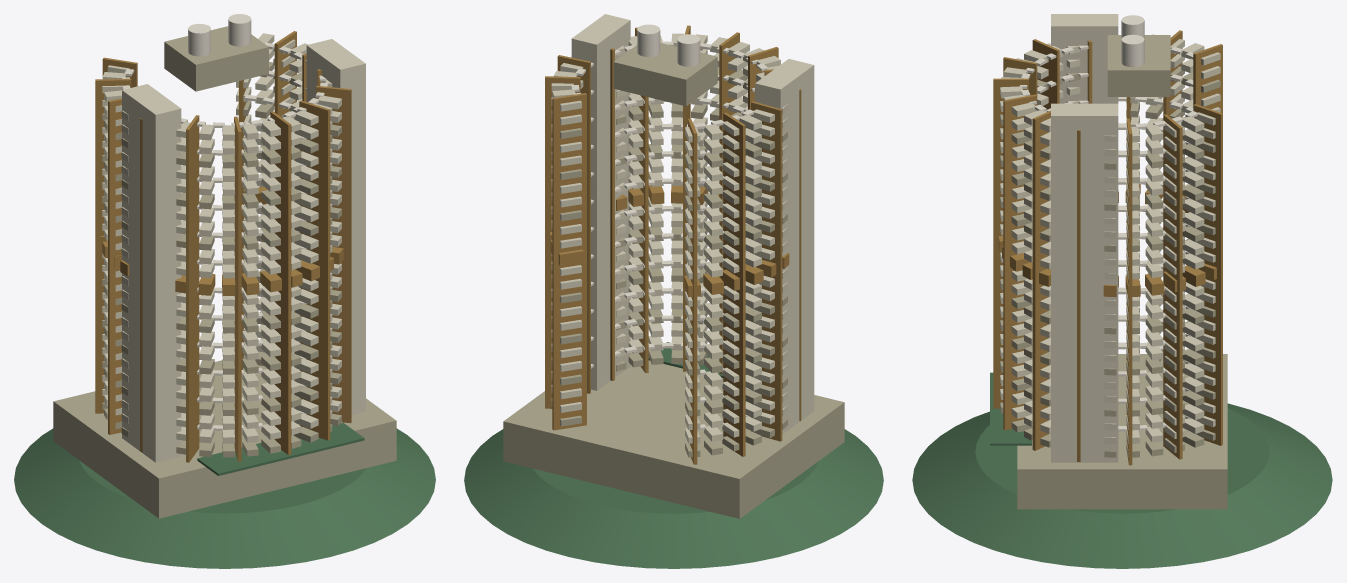
File: pearl-bank-apartments.glb
The picture shows the model from 3 angles, left to right: view 1: azimuth 30°, elevation 25°; view 2: azimuth 150°, elevation 25°; view 3: azimuth 270°, elevation 25°; orthographic projection.
Parts seen in each view (by area): view 1: hill-base/tapered, service-spine/form (×2), podium-carpark/form, radial-party-fins/fin-7, radial-party-fins/fin-4, radial-party-fins/fin-8, radial-party-fins/fin-6, roof-plant/form, radial-party-fins/fin-2, radial-party-fins/fin-1, radial-party-fins/fin-5, open-cylinder-gap/court-axis (+4 smaller); view 2: hill-base/tapered, podium-carpark/form, service-spine/form (×2), radial-party-fins/fin-12, roof-plant/form, radial-party-fins/fin-2, radial-party-fins/fin-1, radial-party-fins/fin-11, radial-party-fins/fin-0, radial-party-fins/fin-8, radial-party-fins/fin-10, radial-party-fins/fin-9 (+5 smaller); view 3: hill-base/tapered, service-spine/form (×2), podium-carpark/form, radial-party-fins/fin-11, radial-party-fins/fin-12, radial-party-fins/fin-7, radial-party-fins/fin-8, roof-plant/form, radial-party-fins/fin-6, radial-party-fins/fin-10, radial-party-fins/fin-9, radial-party-fins/fin-0 (+4 smaller).
Boxes of the visible parts, <box> form: hill-base/tapered: <box>14,428,435,568</box>; service-spine/form (×2): <box>122,39,365,462</box>; podium-carpark/form: <box>53,351,396,518</box>; radial-party-fins/fin-7: <box>299,100,330,440</box>; radial-party-fins/fin-4: <box>186,115,199,462</box>; radial-party-fins/fin-8: <box>316,85,351,423</box>; radial-party-fins/fin-6: <box>270,111,291,454</box>; roof-plant/form: <box>164,26,268,91</box>; radial-party-fins/fin-2: <box>108,98,121,434</box>; radial-party-fins/fin-1: <box>95,78,131,413</box>; radial-party-fins/fin-5: <box>234,116,241,461</box>; open-cylinder-gap/court-axis: <box>197,422,364,475</box>; hill-base/tapered: <box>464,429,883,568</box>; podium-carpark/form: <box>503,360,844,518</box>; service-spine/form (×2): <box>571,14,814,433</box>; radial-party-fins/fin-12: <box>552,93,586,430</box>; roof-plant/form: <box>613,43,717,106</box>; radial-party-fins/fin-2: <box>751,101,782,441</box>; radial-party-fins/fin-1: <box>723,112,745,456</box>; radial-party-fins/fin-11: <box>545,76,580,408</box>; radial-party-fins/fin-0: <box>688,118,697,464</box>; radial-party-fins/fin-8: <box>635,27,648,373</box>; radial-party-fins/fin-10: <box>557,55,590,393</box>; radial-party-fins/fin-9: <box>610,48,614,380</box>; hill-base/tapered: <box>912,403,1332,568</box>; service-spine/form (×2): <box>1051,14,1118,462</box>; podium-carpark/form: <box>1017,354,1227,509</box>; radial-party-fins/fin-11: <box>1163,114,1182,459</box>; radial-party-fins/fin-12: <box>1193,104,1222,445</box>; radial-party-fins/fin-7: <box>1003,94,1037,430</box>; radial-party-fins/fin-8: <box>1032,110,1050,450</box>; roof-plant/form: <box>1107,35,1170,96</box>; radial-party-fins/fin-6: <box>993,78,1028,408</box>; radial-party-fins/fin-10: <box>1126,118,1132,465</box>; radial-party-fins/fin-9: <box>1077,130,1080,462</box>; radial-party-fins/fin-0: <box>1193,44,1222,113</box>.
Size of the model in its own units: 20 by 23.65 by 20.
